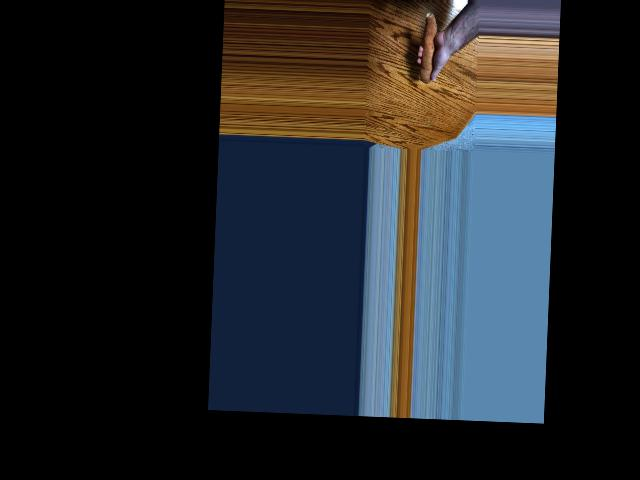sweet_potato: (416, 11, 442, 89)
